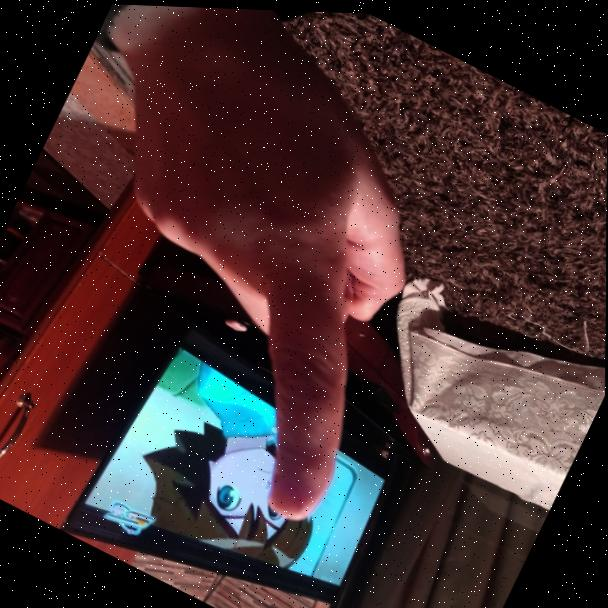one: (0, 0, 500, 545)
